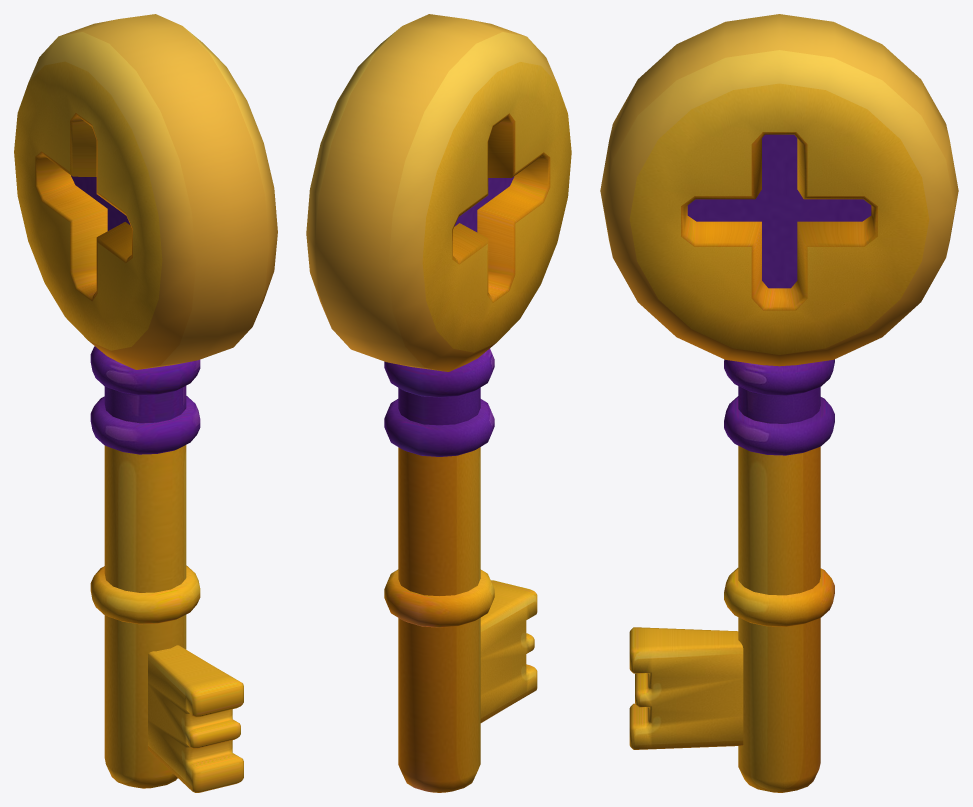
File: key.fbx
The picture shows the model from 3 angles, left to right: view 1: azimuth 30°, elevation 25°; view 2: azimuth 150°, elevation 25°; view 3: azimuth 270°, elevation 25°; orthographic projection.
Parts seen in each view (by area): view 1: key; view 2: key; view 3: key.
Part boxes in pixels (x1,y1,x2,y2): key: (14,14,277,792); key: (306,14,571,792); key: (600,14,958,792).
Bounding box in the file's own units: 0.5253 × 3.03 × 1.3.
